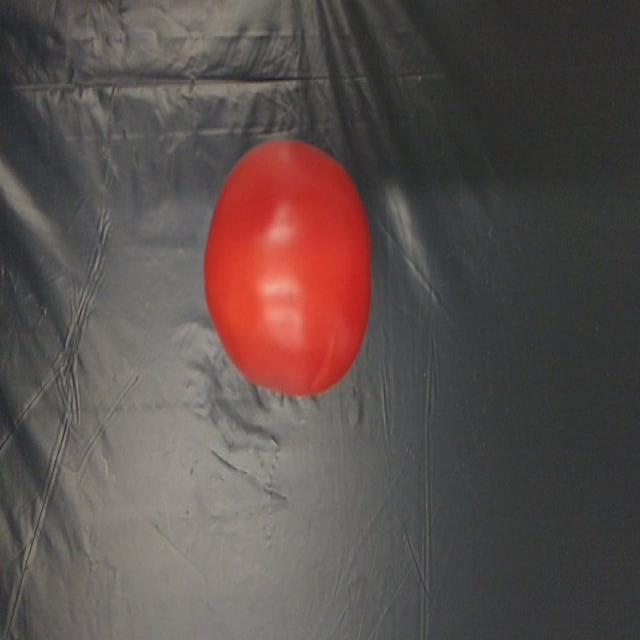kirmizi: (207, 135, 374, 400)
